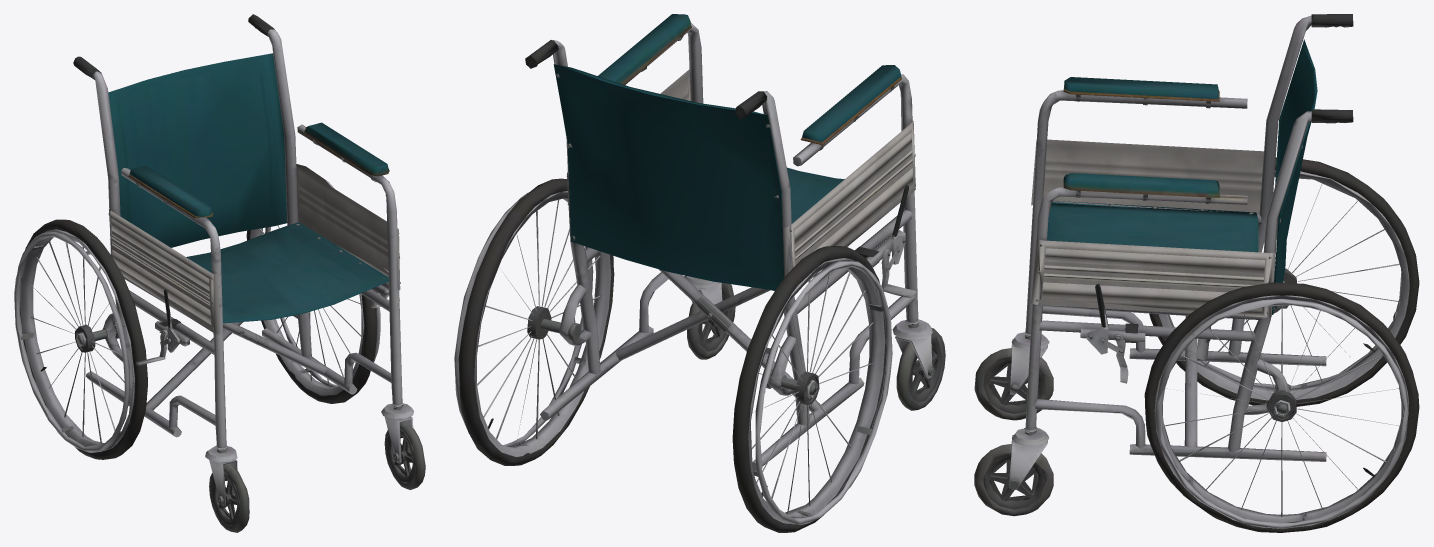
Rendered from wheelchair_01.glb.
The picture shows the model from 3 angles, left to right: view 1: azimuth 30°, elevation 25°; view 2: azimuth 150°, elevation 25°; view 3: azimuth 270°, elevation 25°; orthographic projection. The views are drawn at different scales.
Parts seen in each view (by area): view 1: wheelchair_01; view 2: wheelchair_01; view 3: wheelchair_01.
Part boxes in pixels (bbox=[...]): wheelchair_01: bbox=[14, 14, 425, 532]; wheelchair_01: bbox=[454, 14, 945, 532]; wheelchair_01: bbox=[974, 14, 1419, 532].
Size of the model in its own units: 0.824 by 1.1 by 1.09.
1 material, 1 textured.
